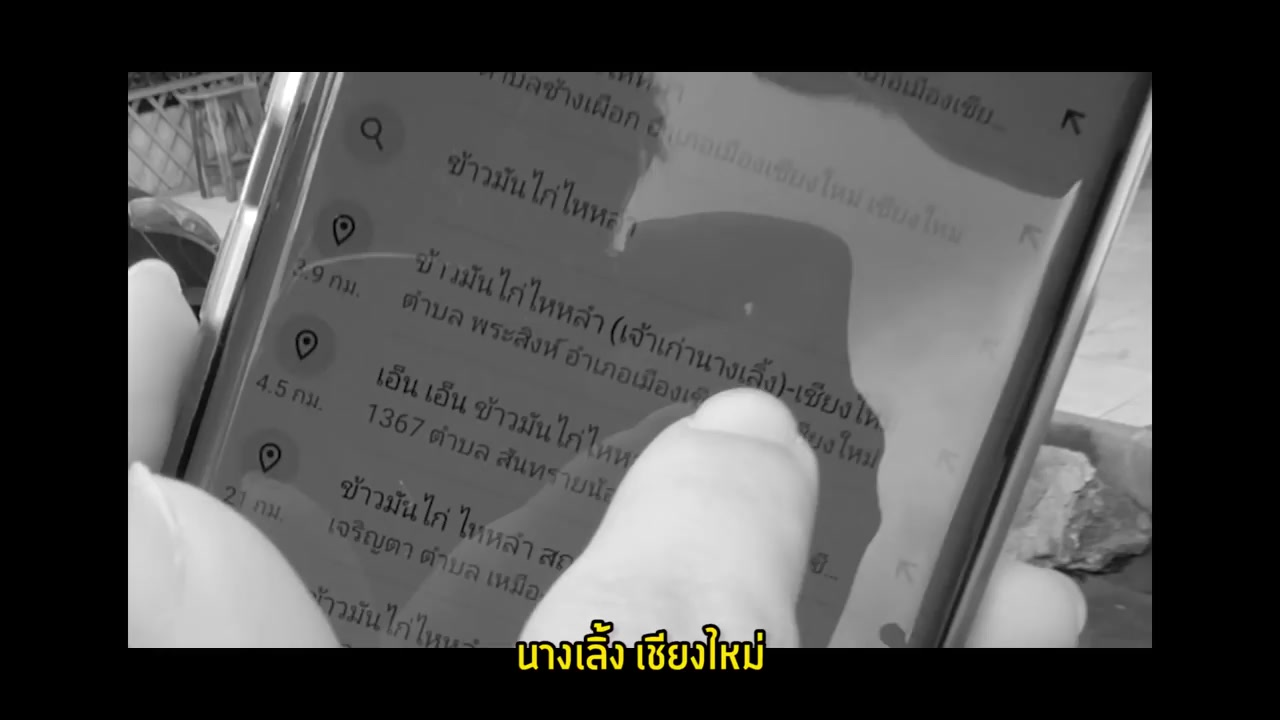text-label: (514, 617, 769, 677)
